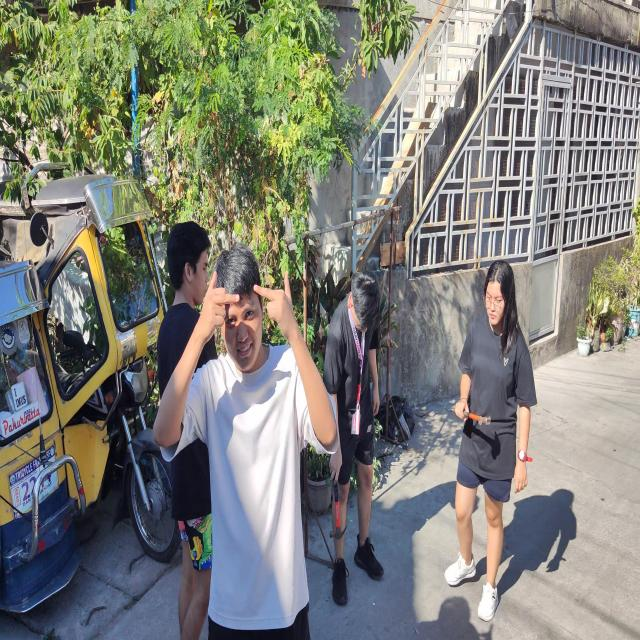hammer: (330, 478, 347, 539), (450, 406, 491, 425)
